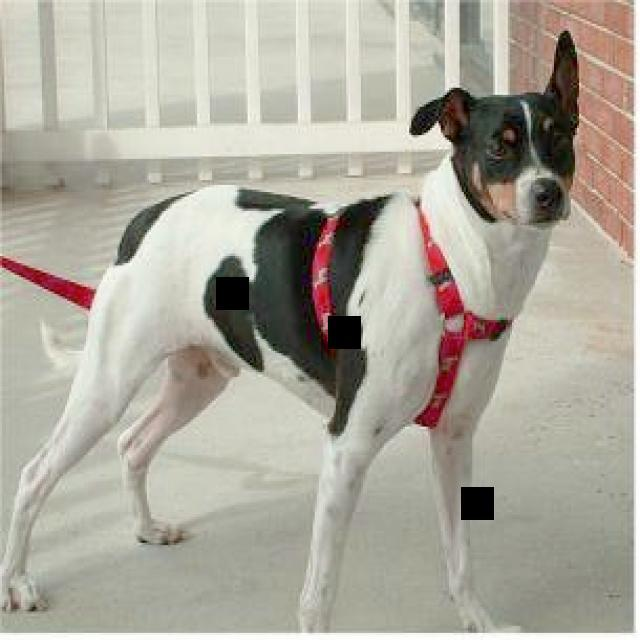adult_dog: (0, 22, 580, 640)
